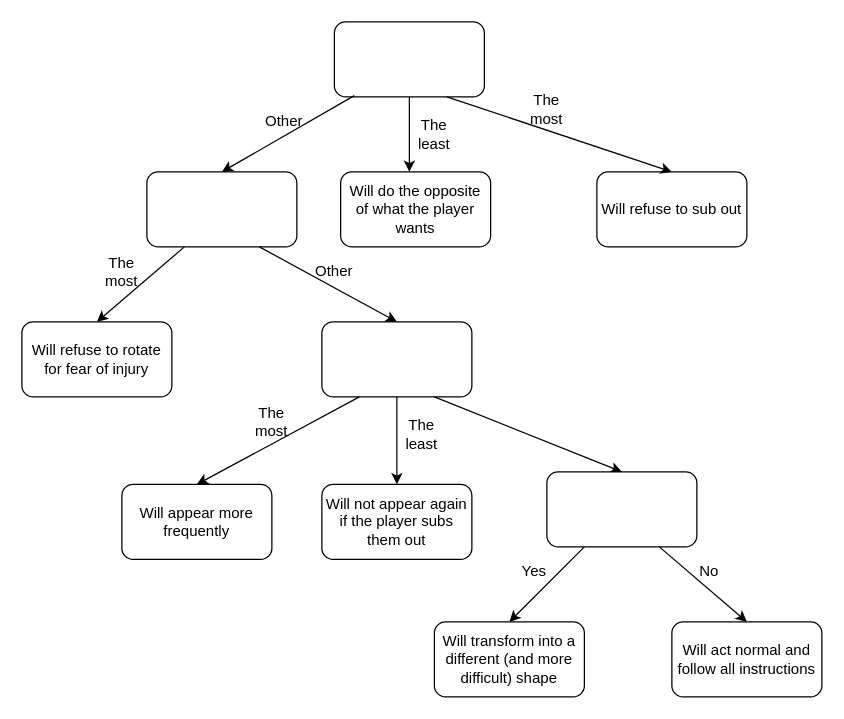
The diagram is 844 pixels wide and 719 high, and some of its shapes have lost their labels. Here are the shapes that lost their labels. From the top down, the centre of each, then its label:
point (408, 59): How many lines did this piece clear?
point (221, 209): How many times did this piece rotate?
point (396, 359): How many times was the piece subbed out?
point (621, 509): Did this piece land on top of the most "whitespace"?
